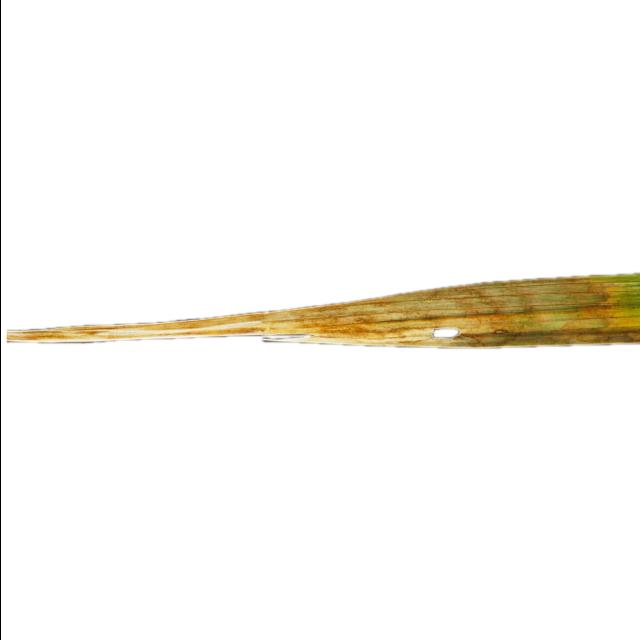Leaf scald: (1, 104, 640, 479)
